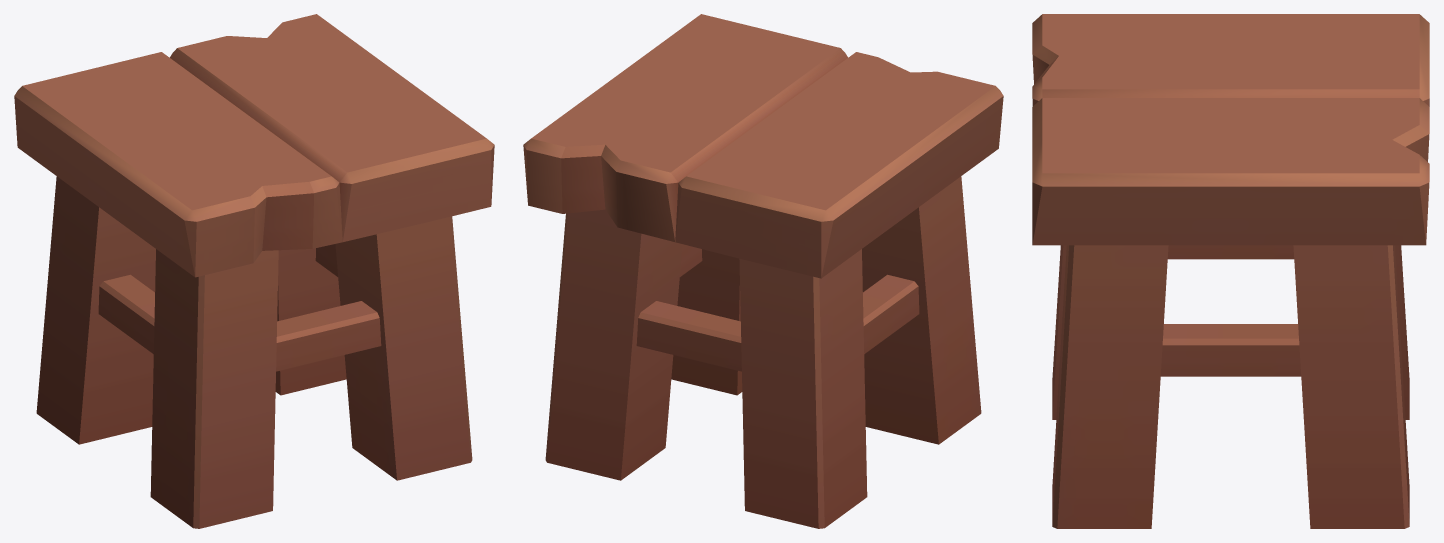
File: table_small.glb
3 views of the same model, side by side, from view 1: azimuth 30°, elevation 25°; view 2: azimuth 150°, elevation 25°; view 3: azimuth 270°, elevation 25° (orthographic). The views are drawn at different scales.
Visible parts, largest first — view 1: table_small; view 2: table_small; view 3: table_small.
Boxes of the visible parts, x1=… form: table_small: x1=14, y1=14, x2=494, y2=528; table_small: x1=523, y1=14, x2=1003, y2=528; table_small: x1=1032, y1=14, x2=1429, y2=528.
Size of the model in its own units: 1 by 1 by 1.
Materials: 1 (1 with a texture image).
